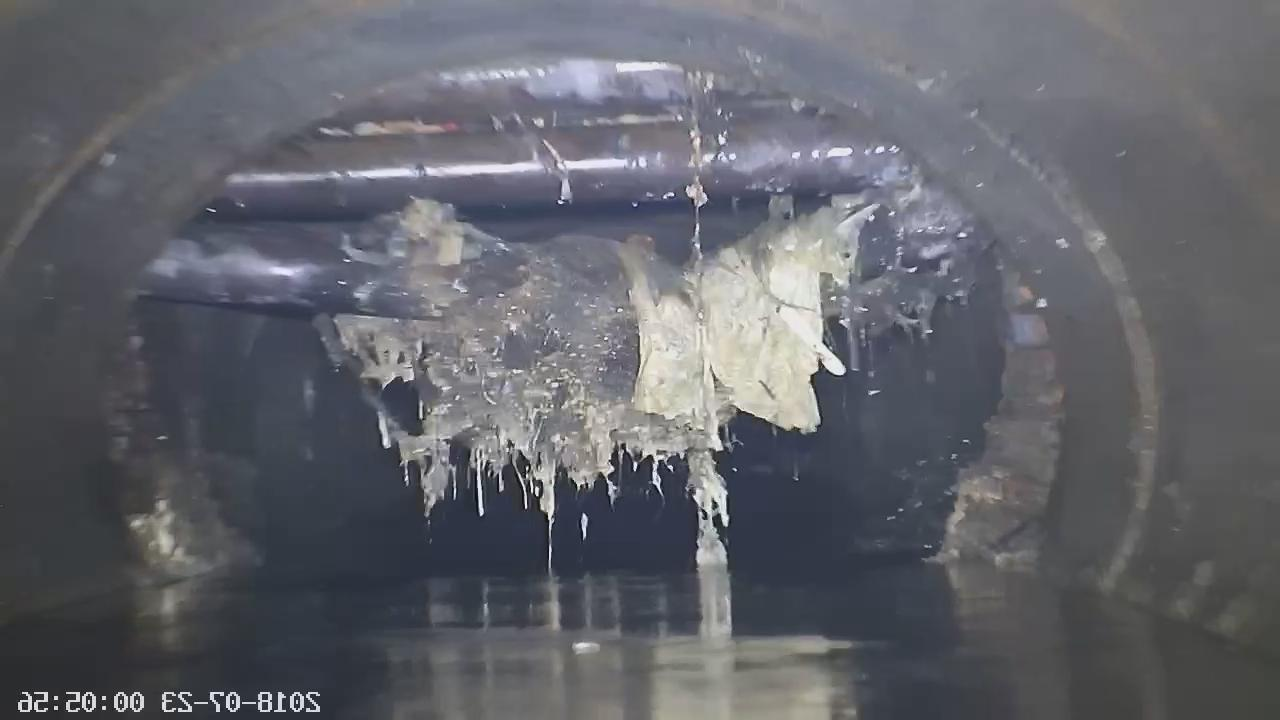YWCR: (152, 59, 979, 563)
